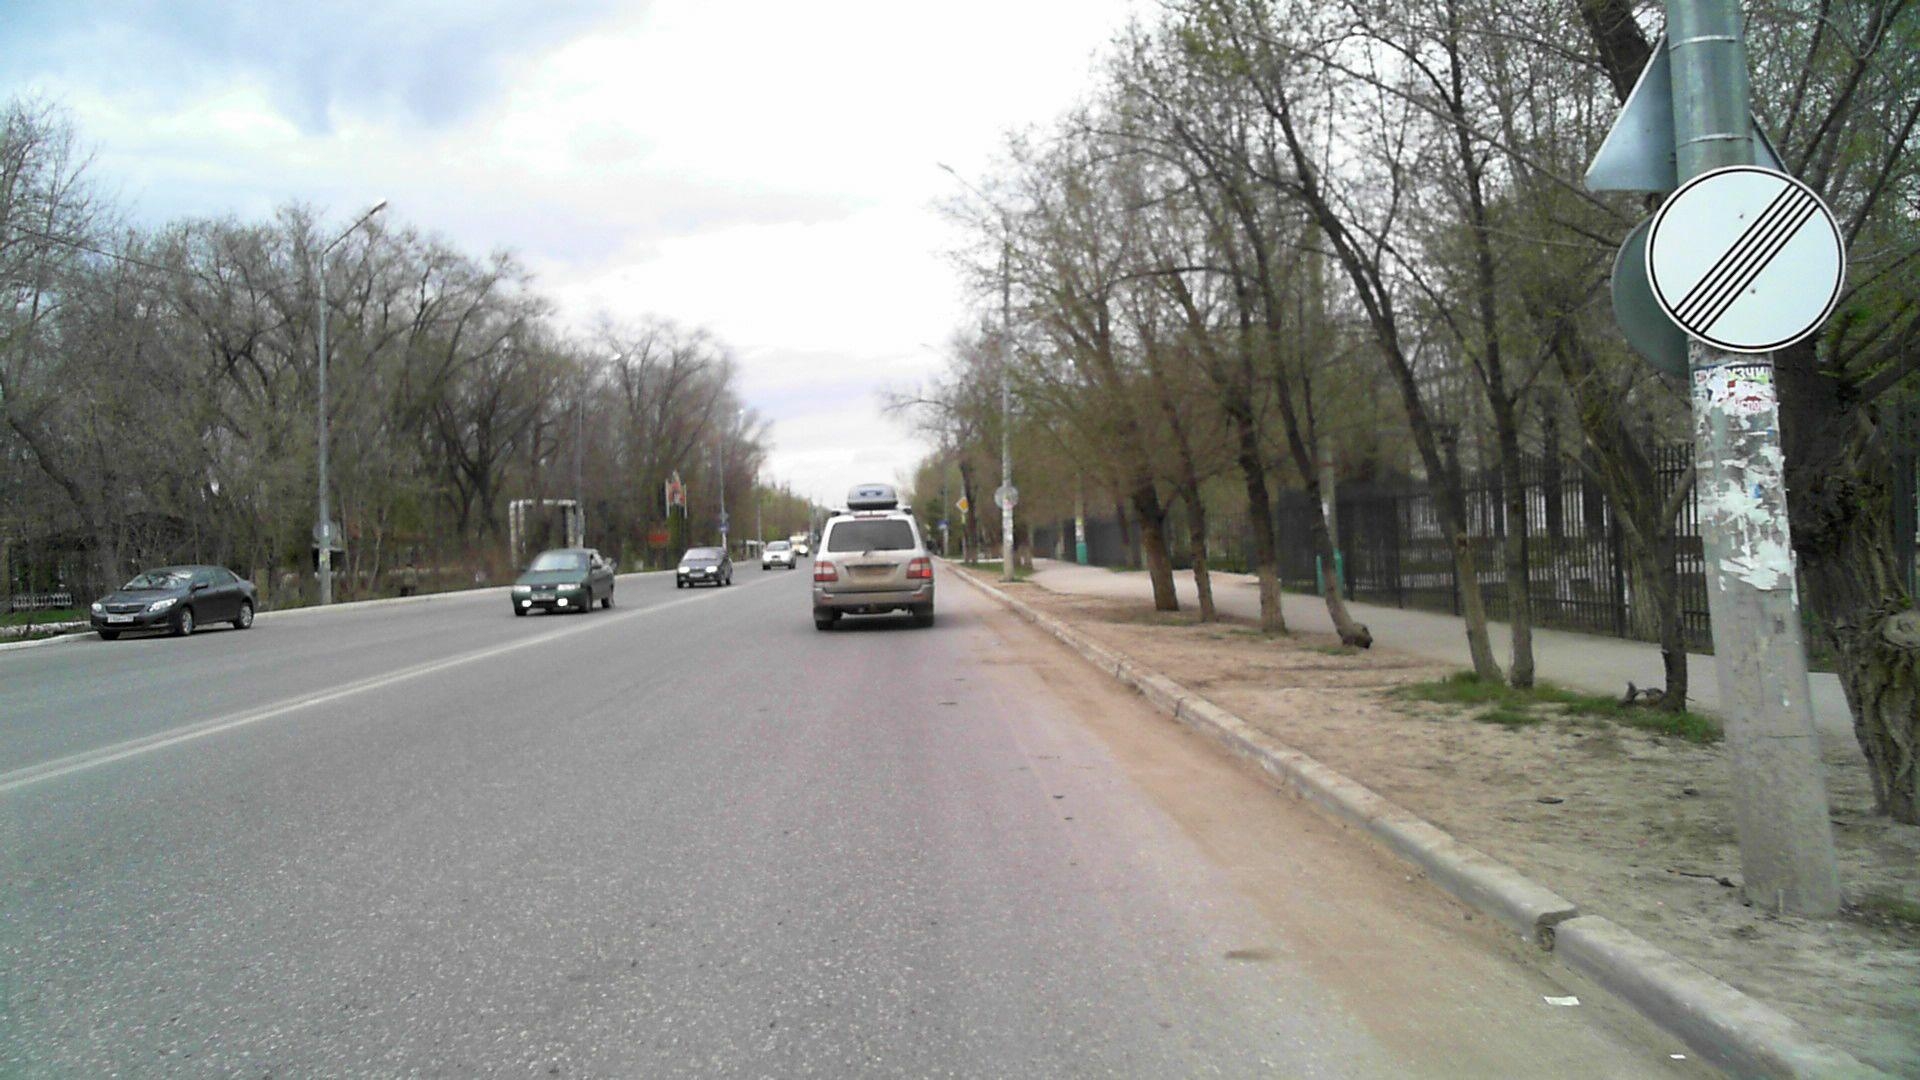2_1: (956, 495, 972, 514)
3_31: (1636, 162, 1844, 355)
